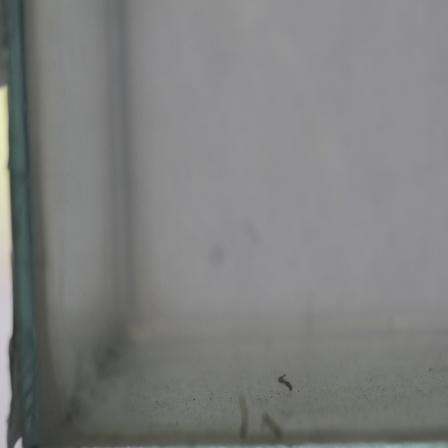Jentik-Nyamuk: (274, 371, 297, 397)
